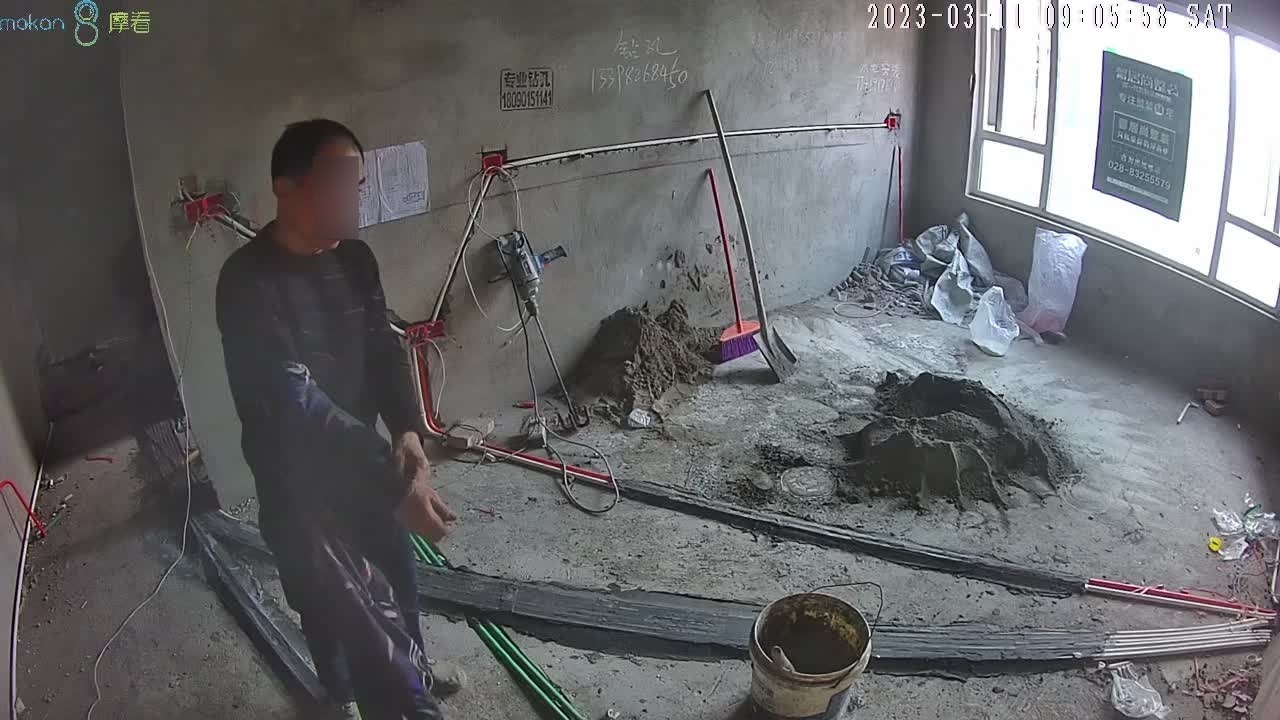people: (217, 119, 464, 720)
window: (966, 2, 1280, 314)
